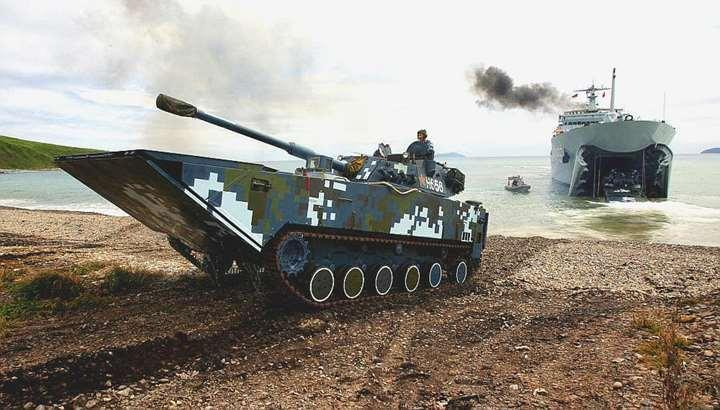MIL_IFV: (52, 93, 492, 315)
